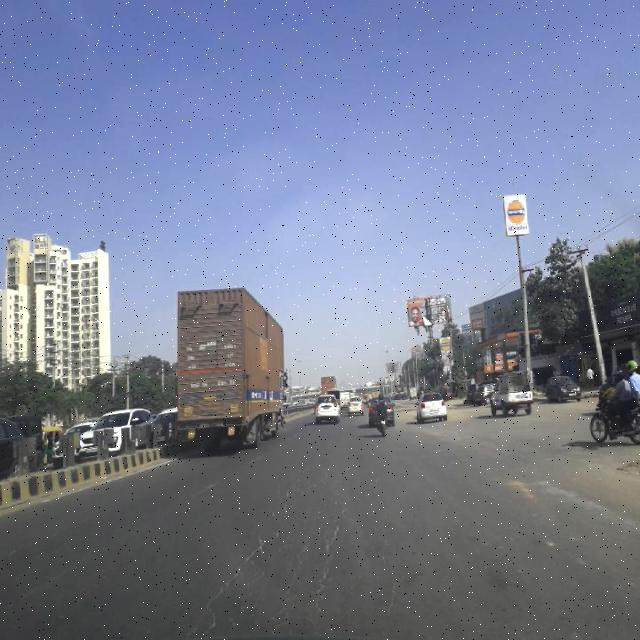D00: (364, 518, 446, 628)
D20: (193, 461, 362, 634)
